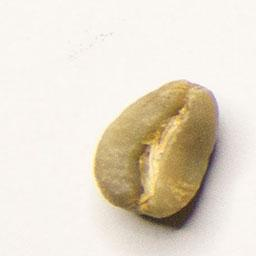longberry: (89, 77, 221, 223)
